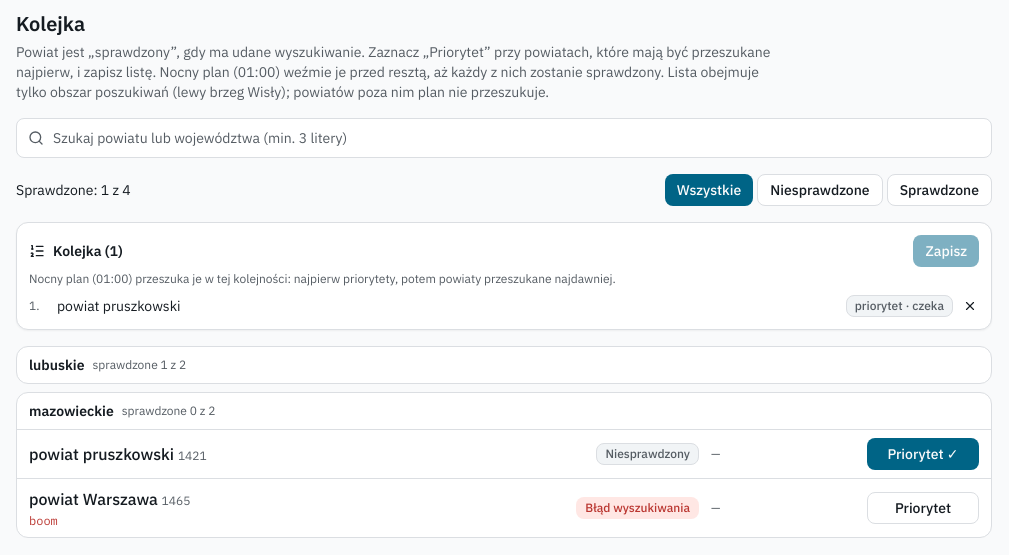
Test: PowiatyPage › shows Niezapisane zmiany next to Zapisz only while changes are staged
Expected: the text "Sprawdzone: 1 z 4" is shown, [16,180,131,200]
Expected: the text "Niezapisane zmiany" is not shown
Click the button named "Usuń z kolejki: powiat pruszkowski". click: (970,306)
box: [961,297,979,315]
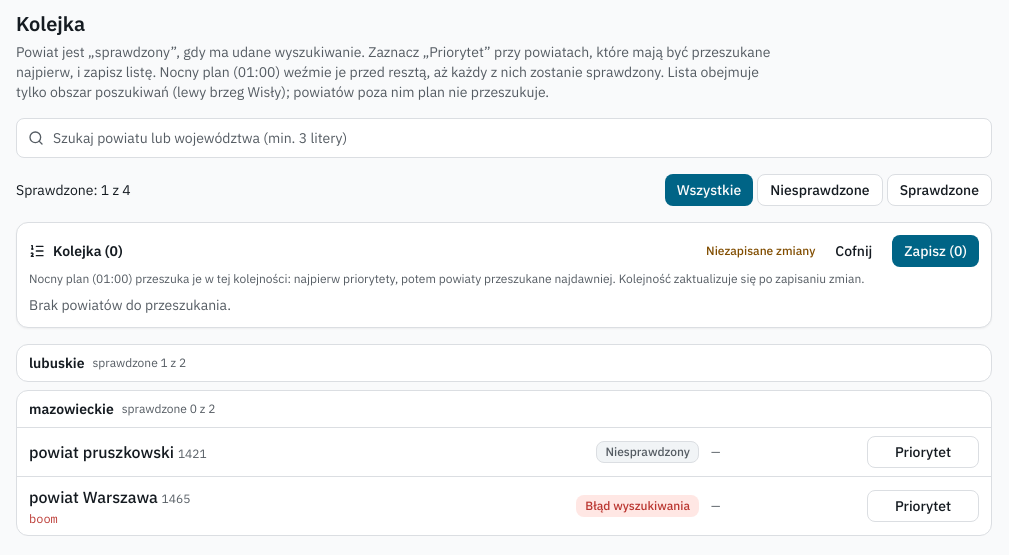
Result: the text "Niezapisane zmiany" is shown at [706,243,815,259]
Click the button "Cofnij". click: (854,251)
box: [823,235,884,267]
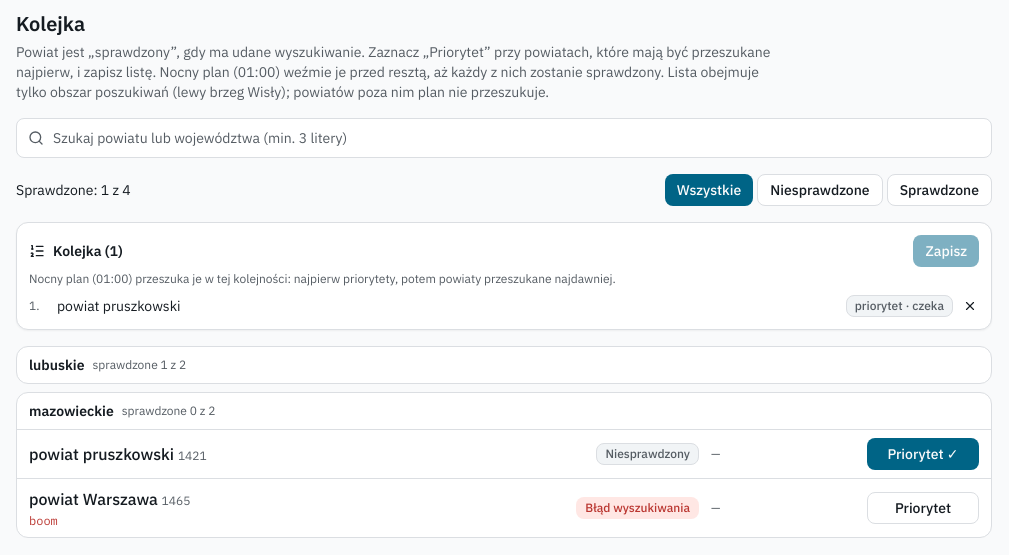
Result: the text "Niezapisane zmiany" is gone
